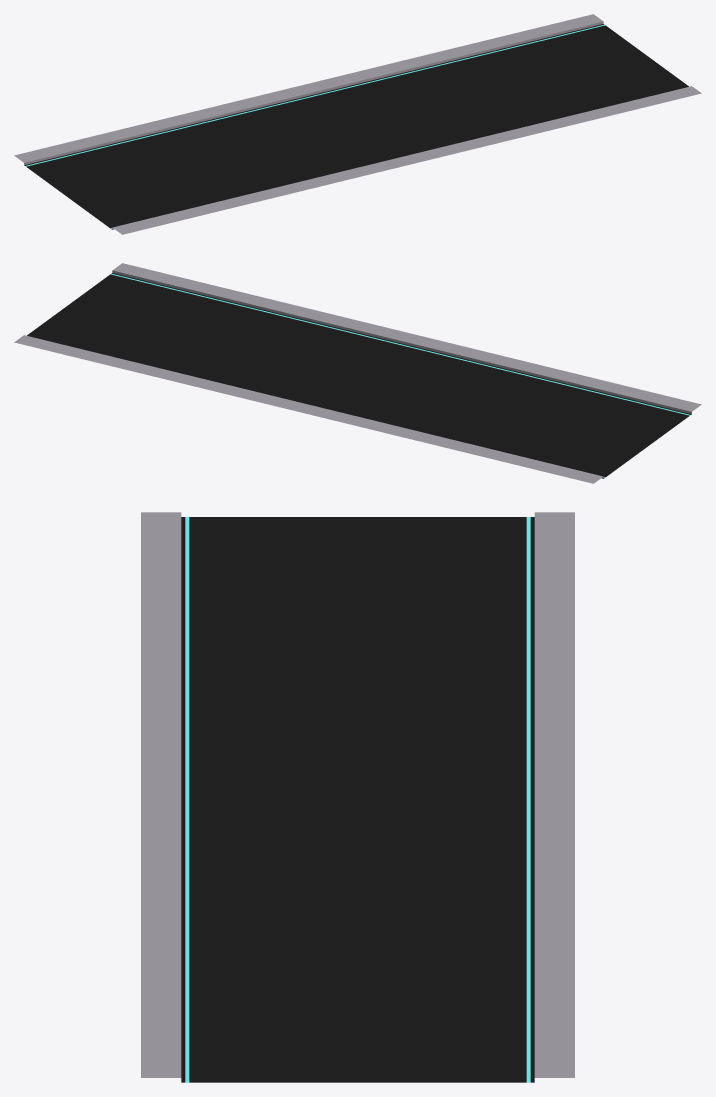
Rendered from 4-vias-12x50.fbx.
3 views of the same model, one above another, from view 1: azimuth 30°, elevation 25°; view 2: azimuth 150°, elevation 25°; view 3: azimuth 270°, elevation 25° (orthographic). The views are drawn at different scales.
Parts seen in each view (by area): view 1: Model; view 2: Model; view 3: Model.
Boxes of the visible parts, left/top/right/bottom form: Model: left=14, top=14, right=701, bottom=234; Model: left=14, top=263, right=701, bottom=483; Model: left=141, top=512, right=574, bottom=1082.
Bounding box in the file's own units: 50 × 0.2 × 16.2.
